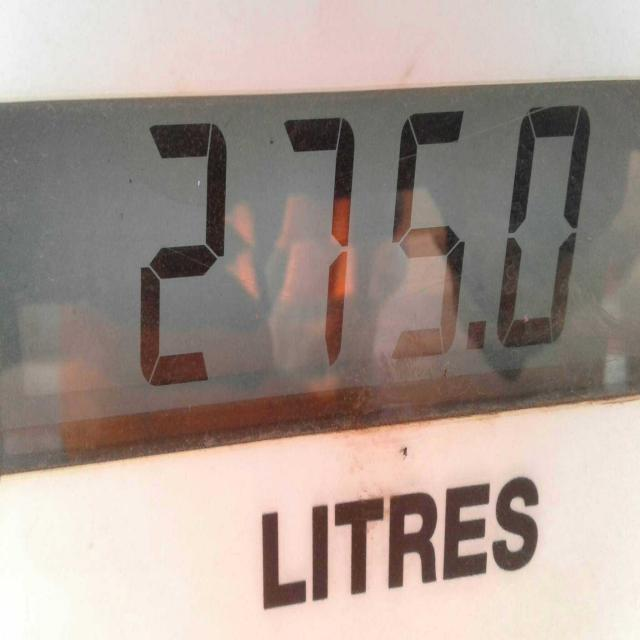.: (466, 318, 491, 353)
0: (492, 104, 592, 360)
2: (136, 115, 234, 402)
5: (390, 108, 470, 370)
7: (276, 109, 366, 379)
screen: (0, 80, 640, 478)
